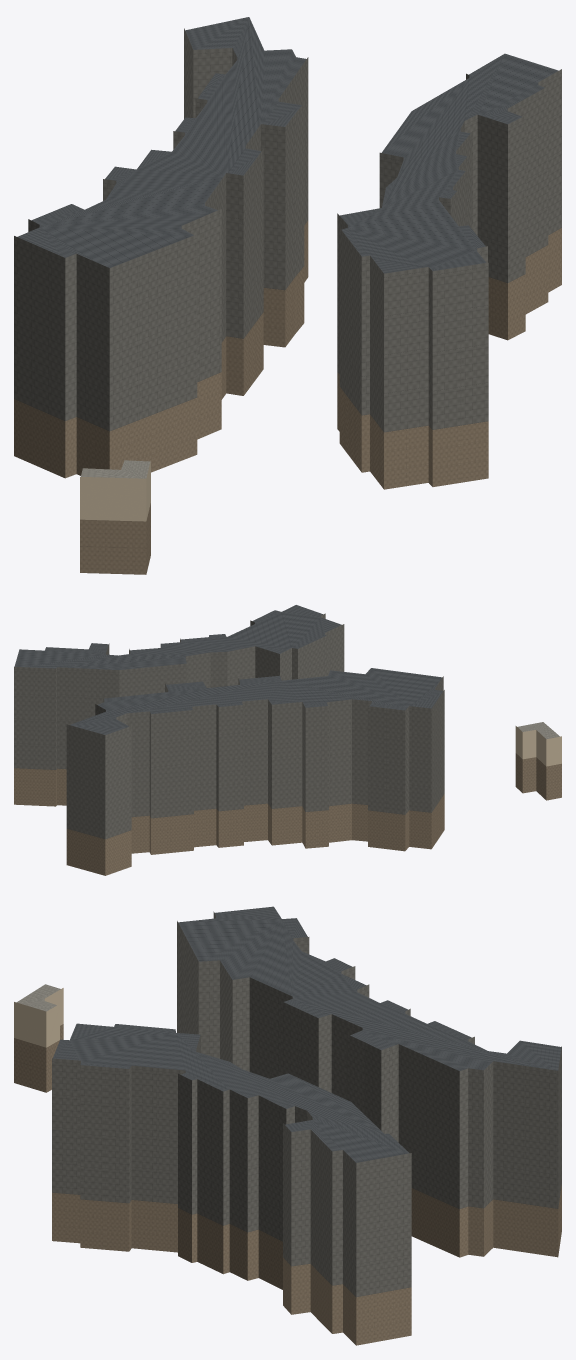
The model's file is bld_c-2_-3_554.gltf.
The picture shows the model from 3 angles, top to bottom: view 1: azimuth 30°, elevation 25°; view 2: azimuth 150°, elevation 25°; view 3: azimuth 270°, elevation 25°; orthographic projection. The views are drawn at different scales.
Visible parts, largest first — view 1: bld_c-2_-3_554; view 2: bld_c-2_-3_554; view 3: bld_c-2_-3_554.
Part boxes in pixels (bbox=[...]): bld_c-2_-3_554: bbox=[14, 17, 561, 574]; bld_c-2_-3_554: bbox=[14, 605, 561, 875]; bld_c-2_-3_554: bbox=[14, 906, 561, 1345].
Bounding box in the file's own units: 62.19 × 20.58 × 52.41.
Materials: 7 (7 with a texture image).
